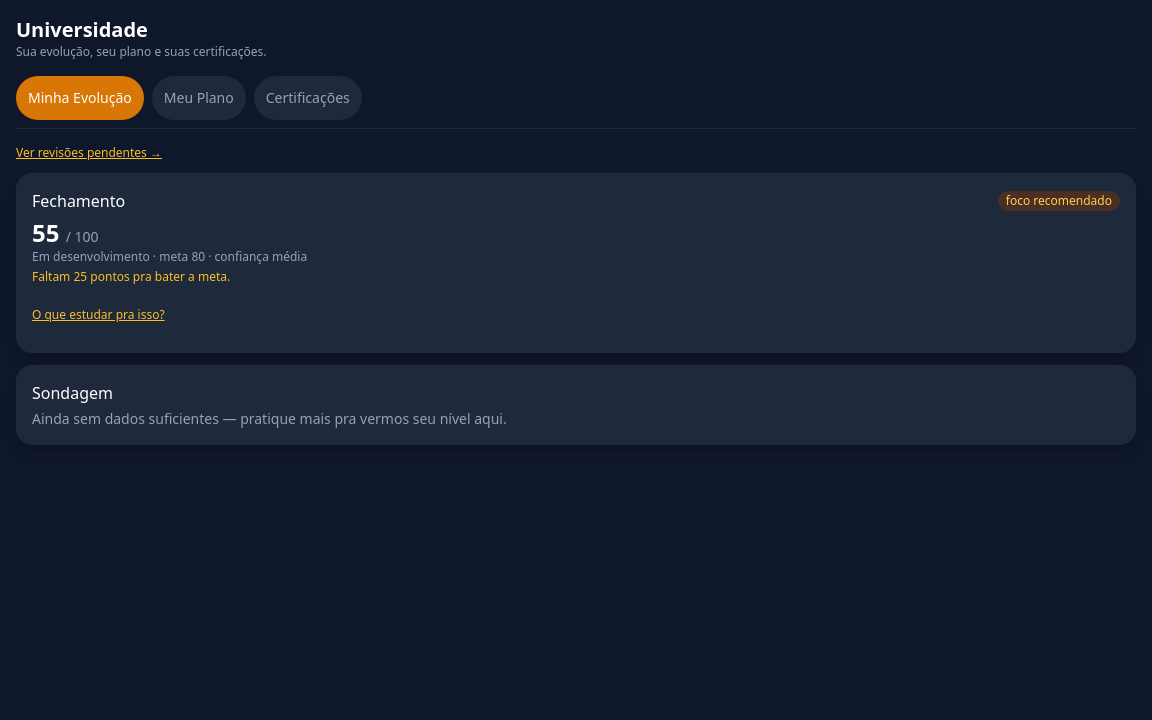
Test case: Universidade — abas › abre o certificado visual com nome do participante e template do Admin (Fatia 9.6, seção 46-48)
This screenshot has width=1152, height=720.
Click the button "Certificações": (308, 98) [254,76,362,120]
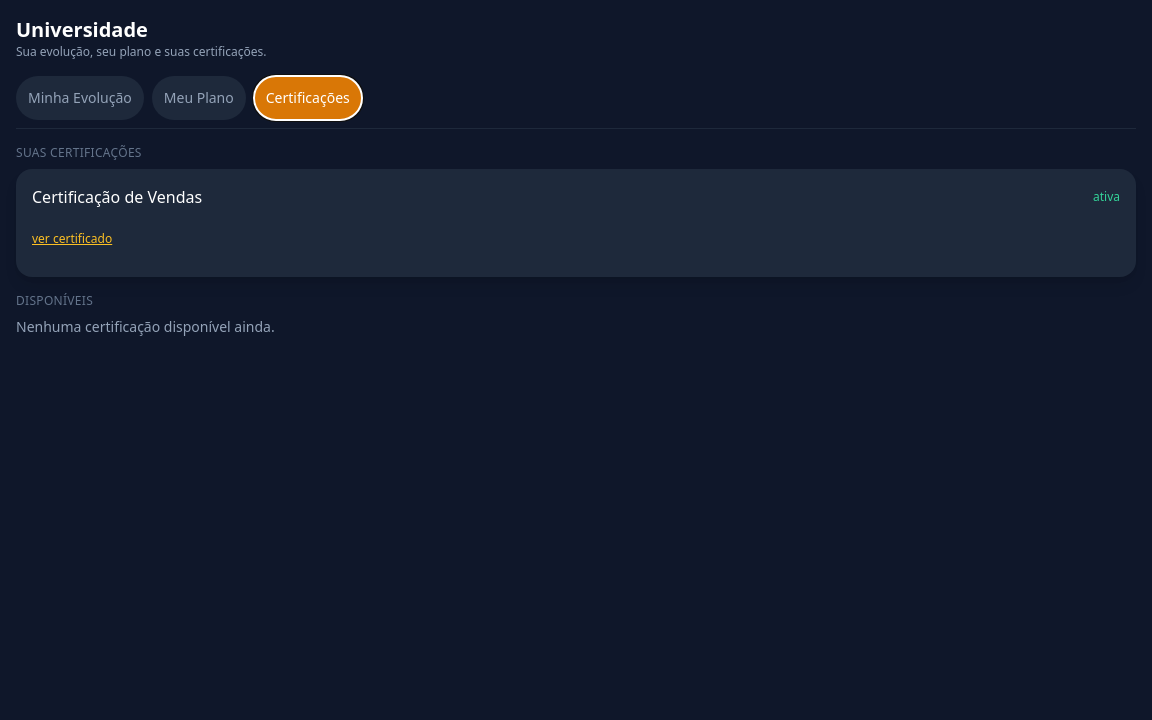
Click the button "ver certificado": (72, 239) [32,217,112,261]
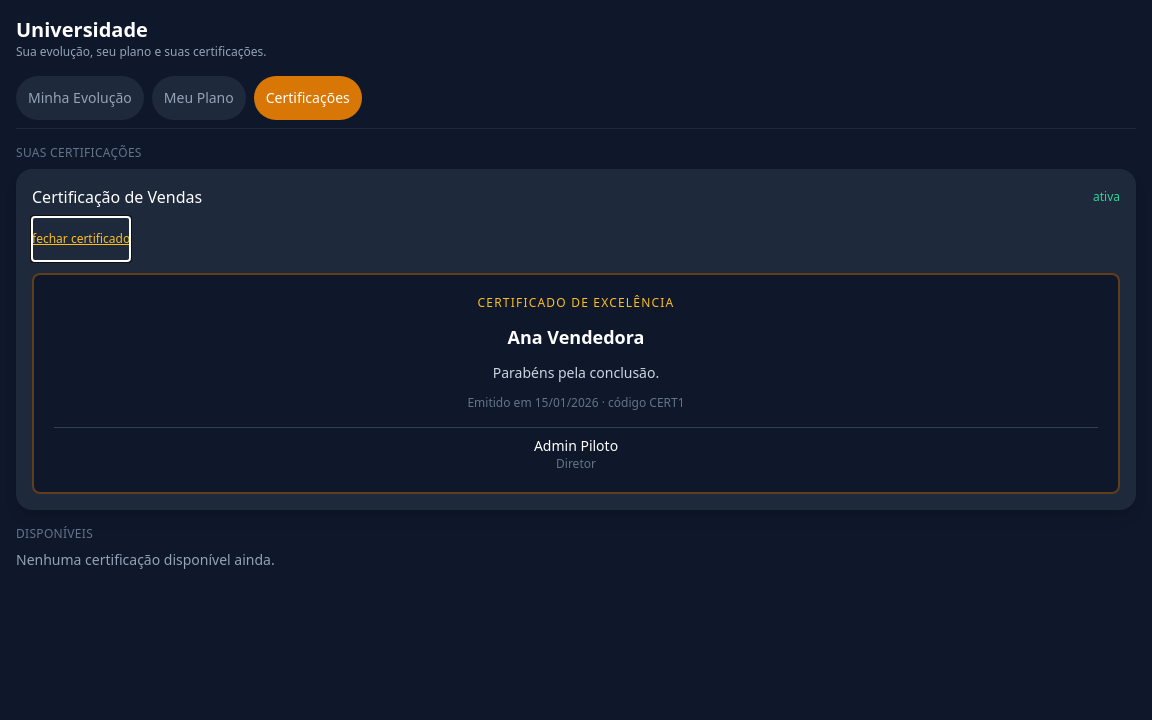
Expected: the text "Certificado de Excelência" is shown, [478,294,674,311]
Expected: the text "Ana Vendedora" is shown, [508,325,644,349]
Expected: the text "Parabéns pela conclusão." is shown, [493,363,659,382]
